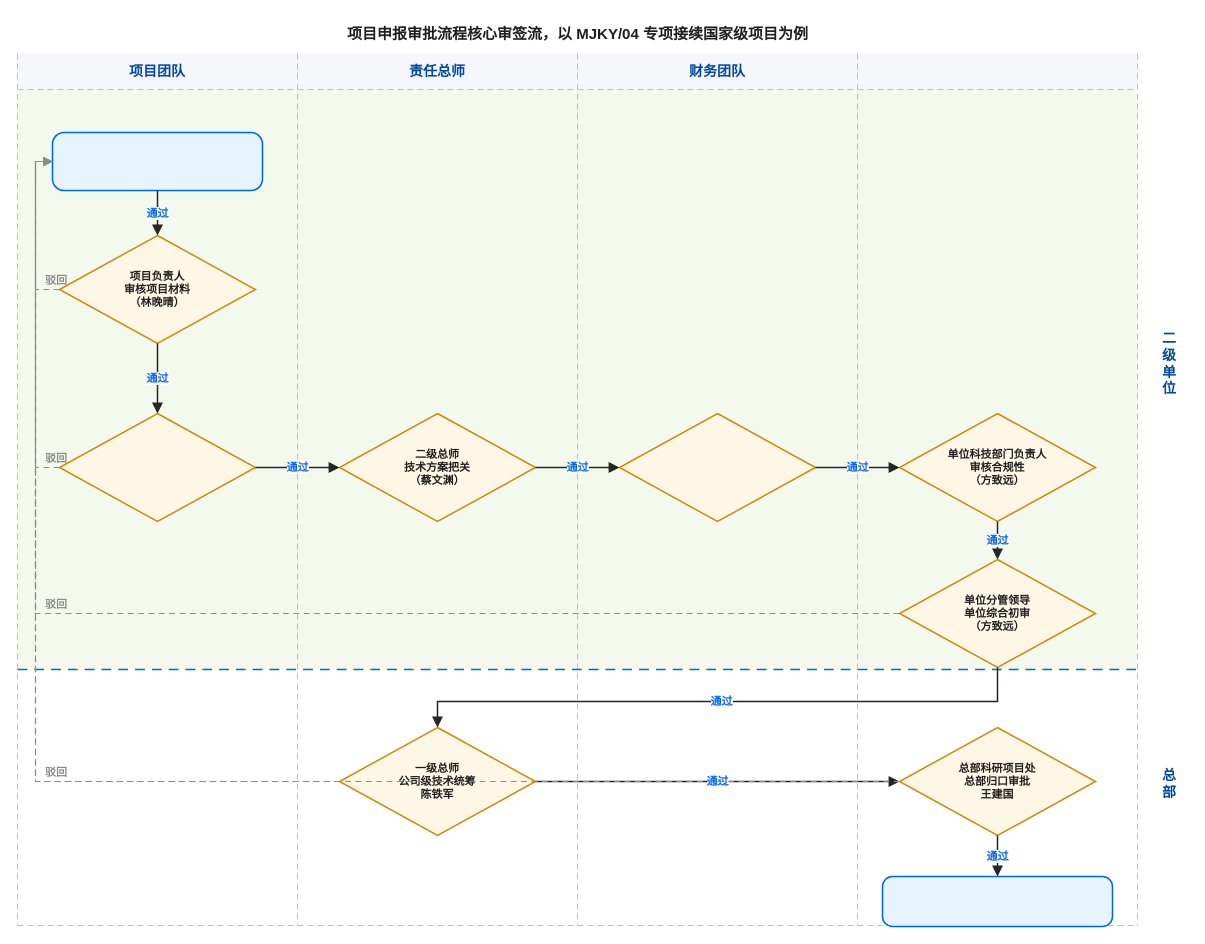
Image size: 1205x944. Some labels were removed from this diagram. The shapes that lost their labels are listed below. From the top down, each one's centre as x and y in pixels, then its label:
[997,71]: 管理团队
[157,161]: 项目联系人 发起审批 + 上传材料 系统管理员
[157,467]: 承办部门负责人 审核项目材料 （方致远）
[717,467]: 单位财务部门负责人 审核申报预算 （毕仲文）
[997,901]: 线上流程结束，启动线下报批
